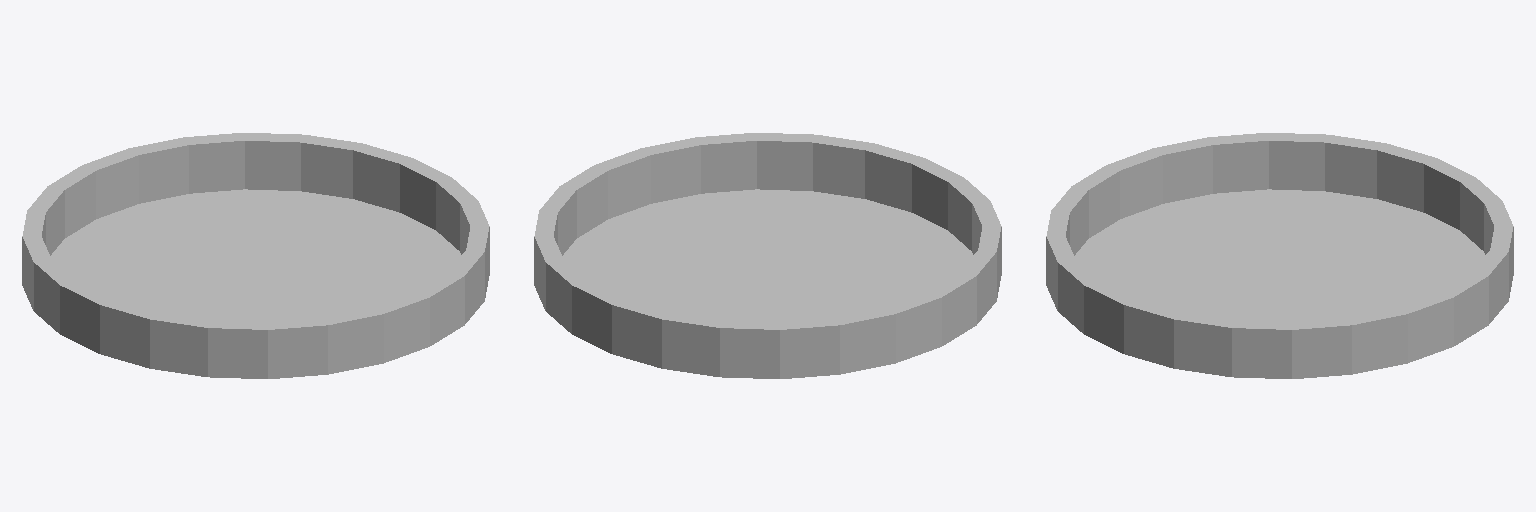
File: pozo.obj
3 views of the same model, side by side, from view 1: azimuth 30°, elevation 25°; view 2: azimuth 150°, elevation 25°; view 3: azimuth 270°, elevation 25° (orthographic).
Parts seen in each view (by area): view 1: Layer0_001; view 2: Layer0_001; view 3: Layer0_001.
Boxes of the visible parts, <box> form: Layer0_001: <box>22,133,489,378</box>; Layer0_001: <box>534,133,1001,378</box>; Layer0_001: <box>1046,133,1513,378</box>.
Size of the model in its own units: 167 by 19.5 by 167.